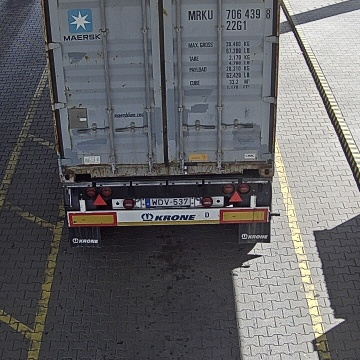serial_id: (188, 8, 271, 19)
